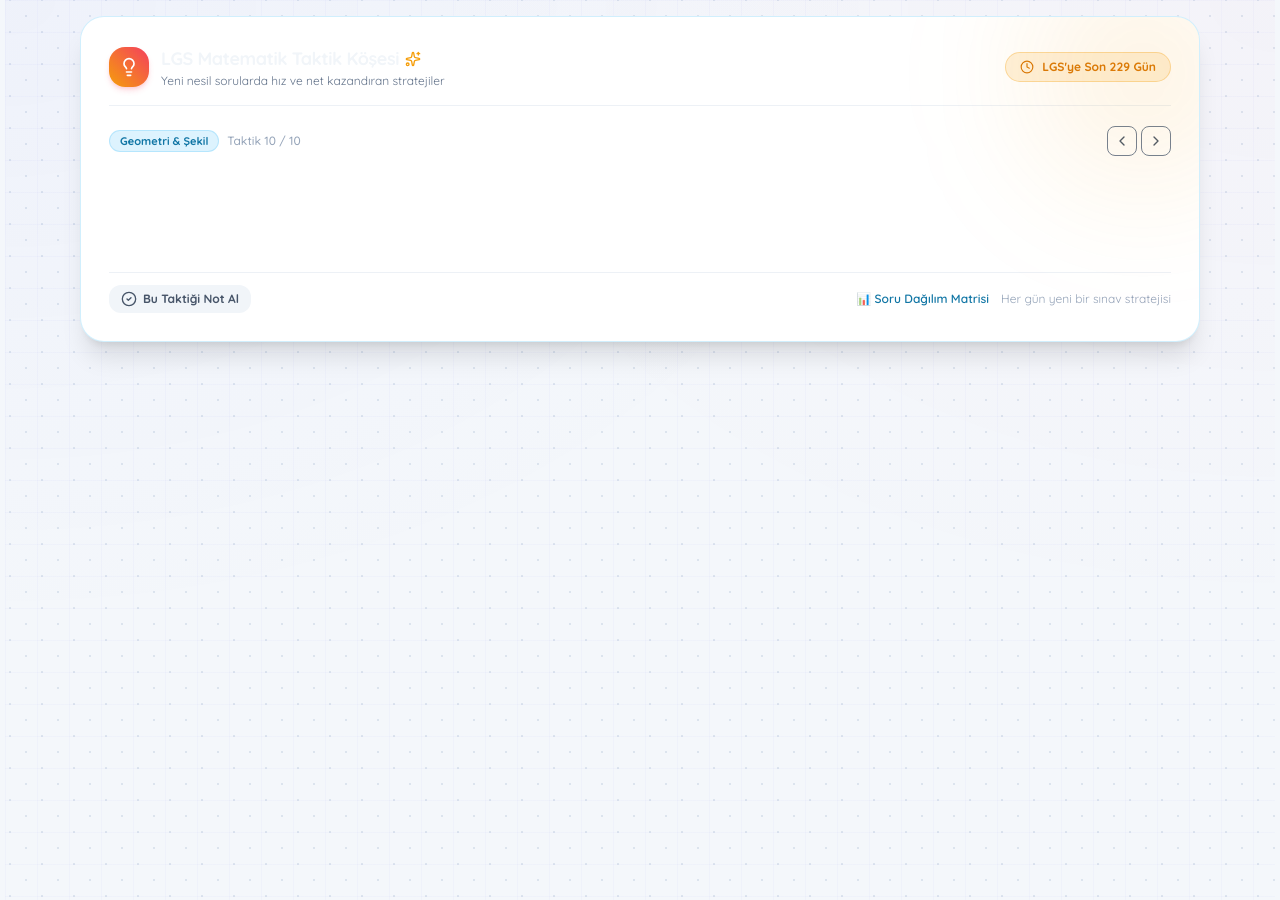
LgsTacticsCorner Component › allows toggling tactic as applied / noted down
What coordinates should you click on to do the following:
click the button "Bu Taktiği Not Al"
I would click on:
 (180, 299)
Its box is [109, 285, 251, 313].
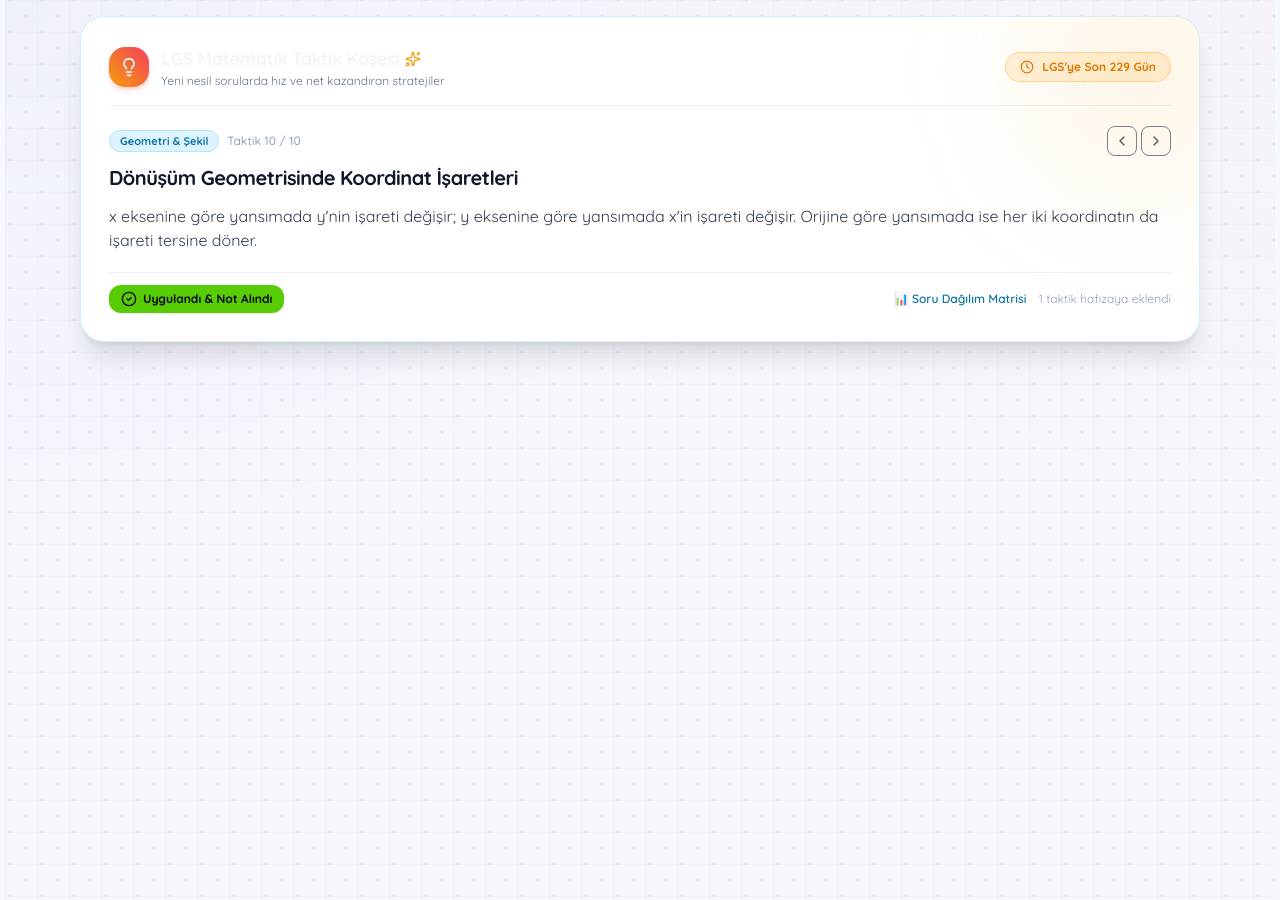
Check: the button "Uygulandı & Not Alındı" is shown, box [109, 285, 284, 313]
Check: the text "1 taktik hafızaya eklendi" is shown, box [1038, 291, 1171, 307]
